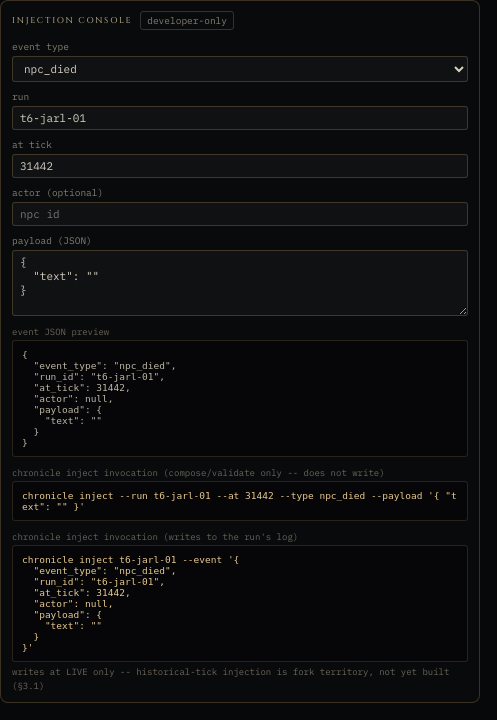
Test case: InjectionConsole (lane 46: writing-form CLI invocation) › updates the writing invocation to reflect edited run/type/actor/payload
Step 1. Replace the text in the field labelled "run" with "other-run" → (240, 118), box [12, 106, 468, 130]
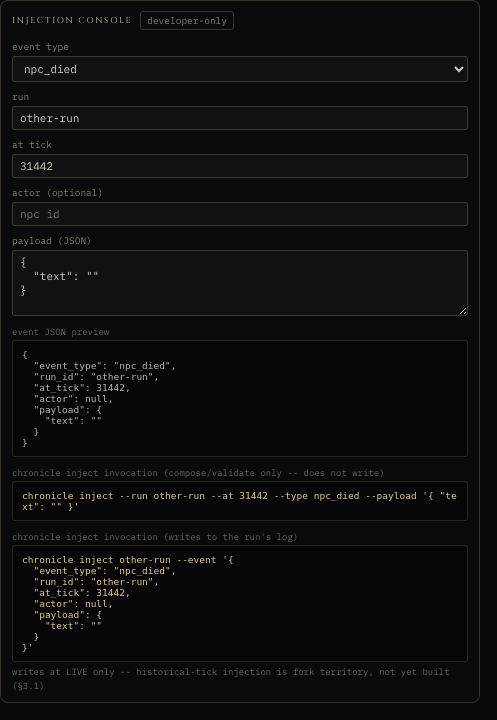
Step 2. Select "crime_witnessed" in the dropdown labelled "event type" → (240, 69), box [12, 56, 468, 82]
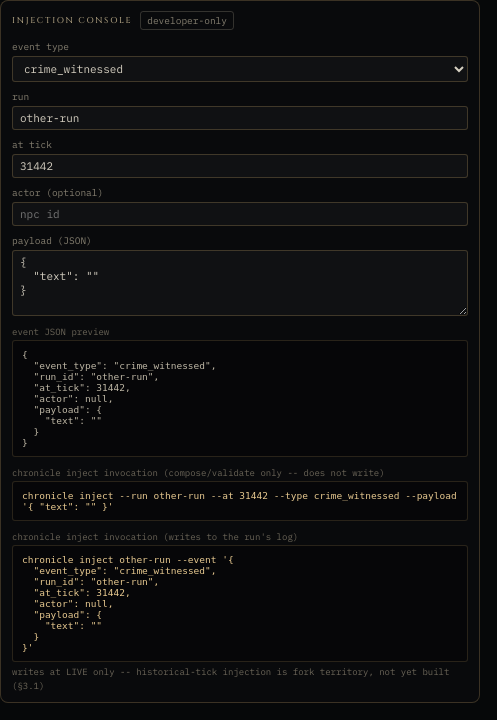
expect the text with class "injection-console__code--cli" shows "\"event_type\": \"crime_witnessed\"": met, box [22, 554, 234, 653]
